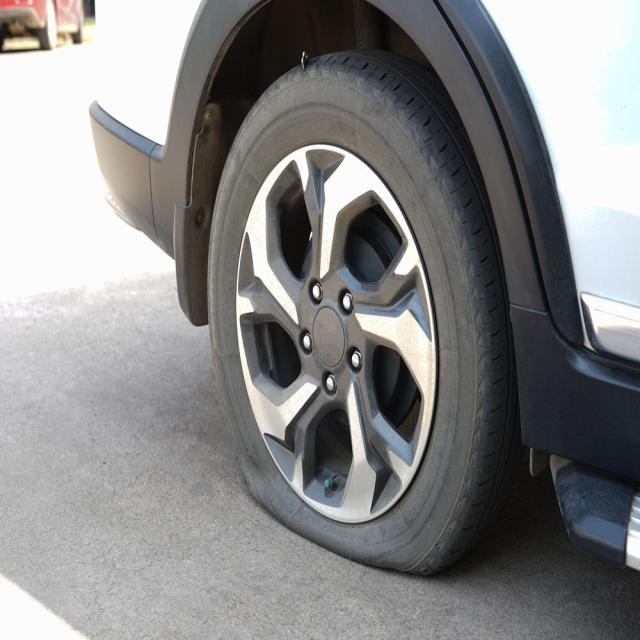tire flat: (208, 49, 519, 579)
